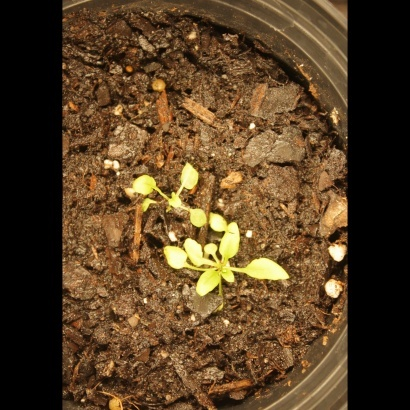leaf: (244, 256, 293, 285), (220, 220, 243, 261), (179, 159, 203, 194), (184, 235, 208, 268), (161, 244, 189, 272), (131, 172, 159, 199), (184, 204, 210, 230), (196, 270, 220, 297), (138, 196, 161, 219), (164, 191, 187, 214), (198, 236, 221, 259), (207, 210, 230, 233), (220, 263, 243, 286)
